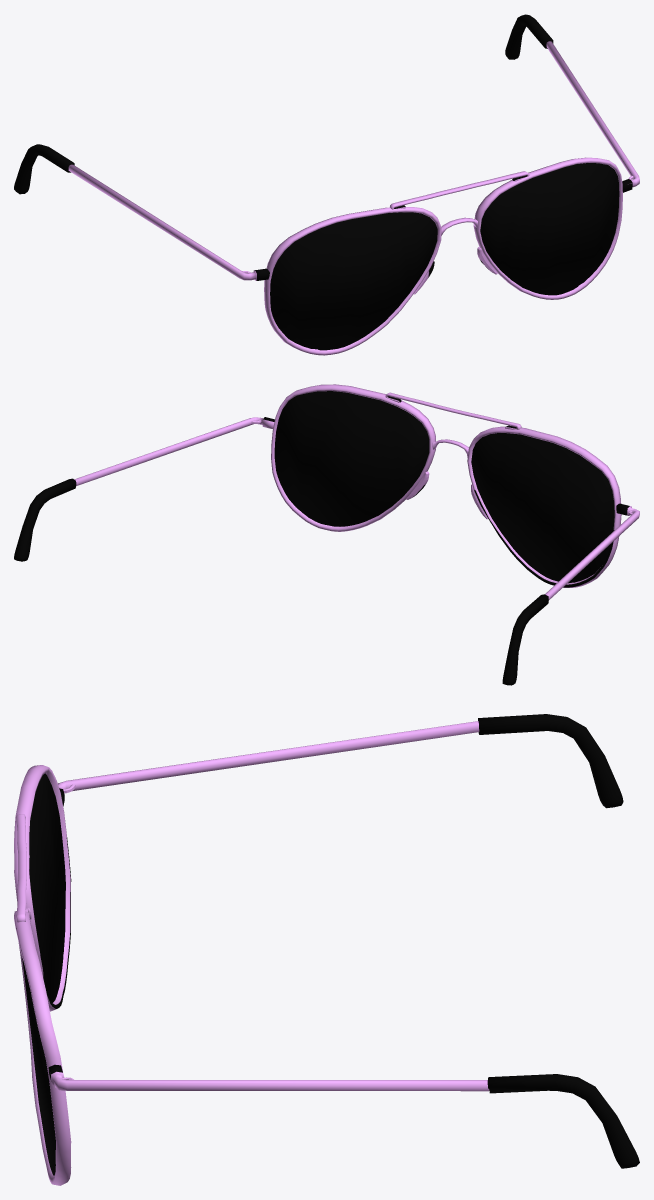
Rendered from Sunglasses_Girl 1.fbx.
3 views of the same model, one above another, from view 1: azimuth 30°, elevation 25°; view 2: azimuth 150°, elevation 25°; view 3: azimuth 270°, elevation 25° (orthographic). The views are drawn at different scales.
Parts seen in each view (by area): view 1: SunGlasses; view 2: SunGlasses; view 3: SunGlasses.
Boxes of the visible parts, x1=… form: SunGlasses: x1=14, y1=14, x2=639, y2=355; SunGlasses: x1=14, y1=384, x2=639, y2=685; SunGlasses: x1=14, y1=714, x2=639, y2=1185.
Size of the model in its own units: 50.04 by 13.72 by 34.53.
Materials: 1 (1 with a texture image).
